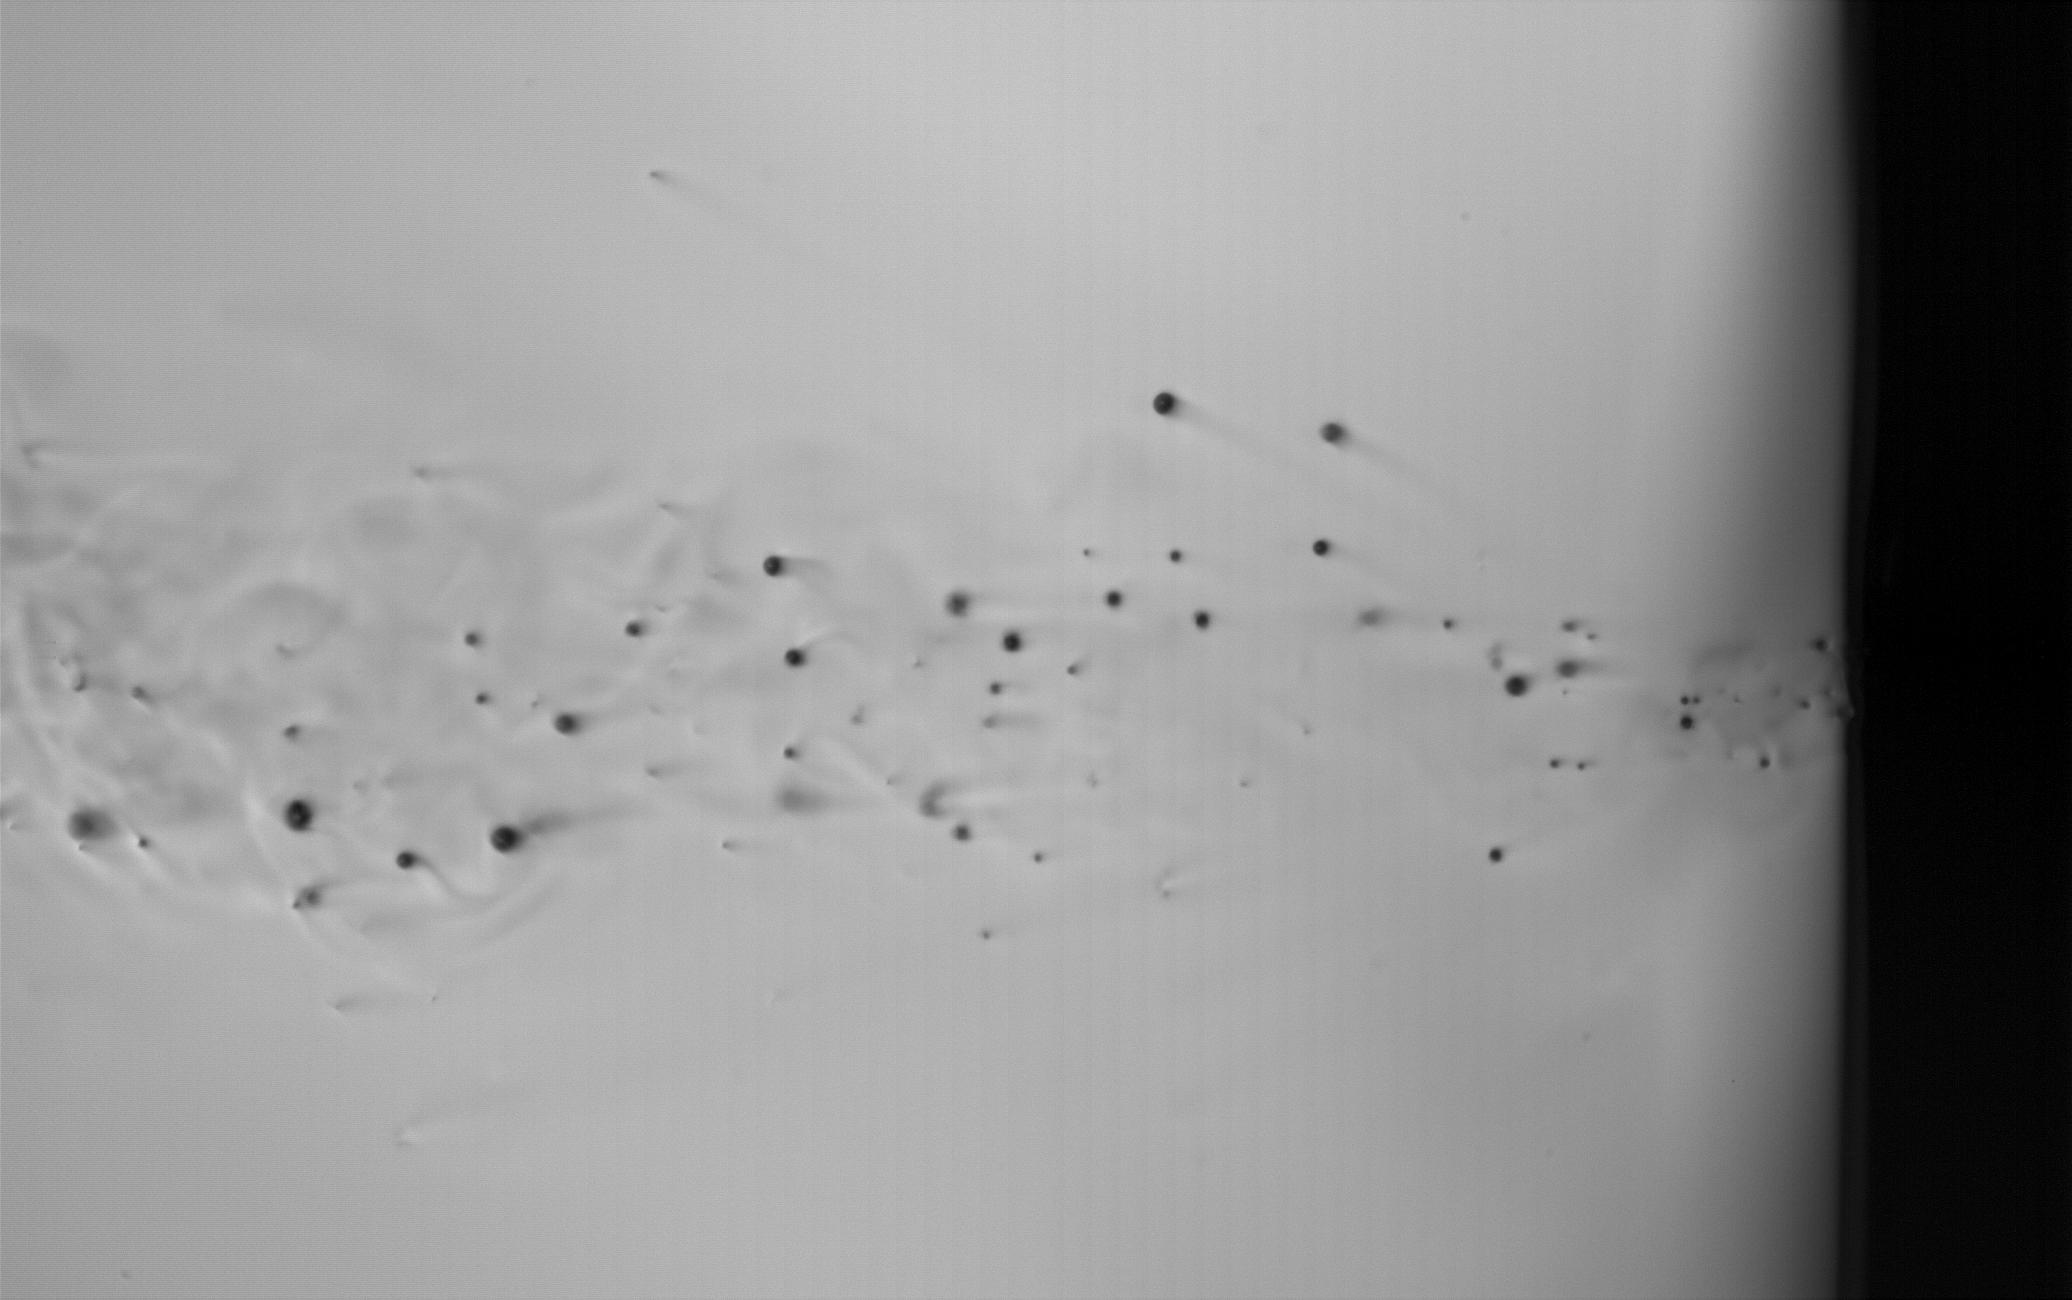Blurry: (64, 800, 123, 851), (916, 771, 958, 824), (774, 782, 826, 816), (1353, 607, 1388, 632), (979, 713, 1015, 732), (275, 720, 304, 744), (975, 923, 996, 948), (717, 834, 737, 857), (1073, 547, 1094, 562)
ClassicalEvaporation: (490, 816, 528, 860), (289, 878, 326, 920), (283, 795, 314, 839), (1502, 671, 1536, 705), (942, 589, 969, 622), (762, 551, 787, 583), (1481, 843, 1508, 872), (549, 711, 578, 737), (1151, 388, 1177, 415), (780, 647, 808, 671), (394, 848, 421, 872), (1317, 419, 1343, 443), (1806, 634, 1829, 659), (623, 616, 644, 641), (1002, 629, 1024, 651), (1310, 538, 1331, 560), (1675, 714, 1698, 735), (777, 741, 799, 762), (1794, 693, 1814, 716), (1192, 610, 1211, 634), (1555, 614, 1579, 634), (1558, 657, 1576, 683), (1752, 753, 1773, 773), (1103, 590, 1124, 610), (948, 824, 969, 843), (463, 631, 481, 649), (1165, 548, 1180, 565), (475, 692, 490, 708), (987, 681, 1002, 698), (1066, 663, 1076, 675), (1547, 756, 1557, 768), (1675, 693, 1686, 704), (1442, 617, 1452, 628), (1576, 759, 1585, 770)
TransitionalMixing: (1032, 852, 1042, 863)
